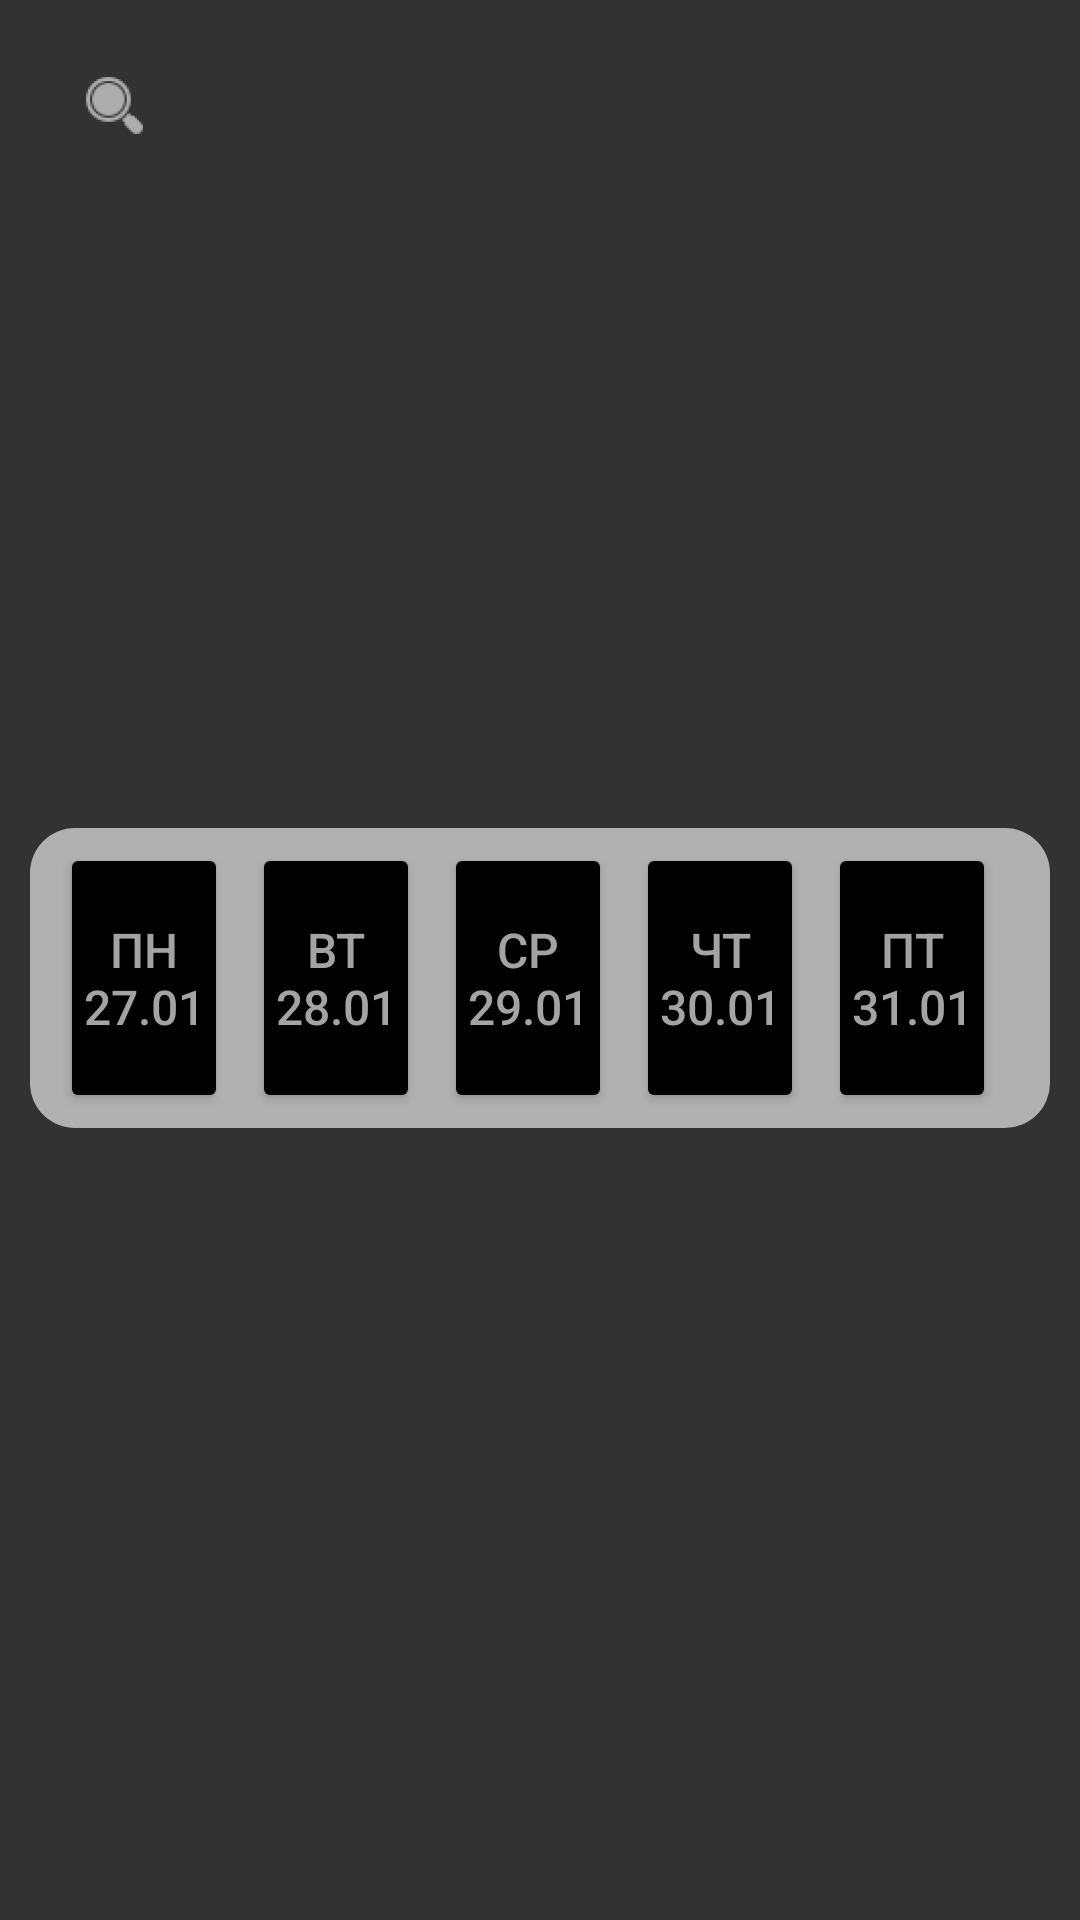

Icons on this 1080*1920 Android screen, each with the point to tap as point (x, y):
lupa: point (114, 105)
